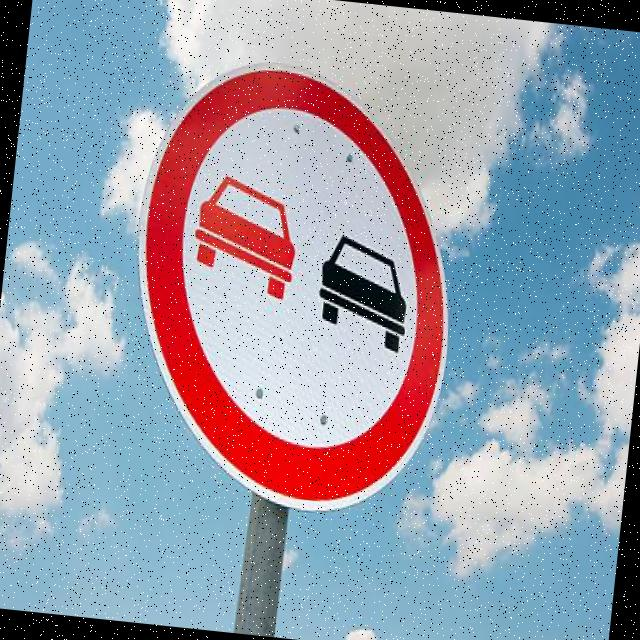no_passing: (116, 40, 482, 531)
